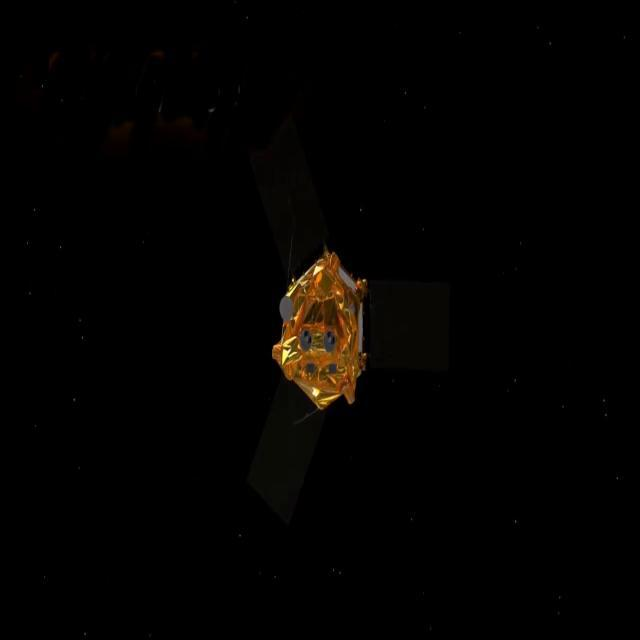sat: (254, 211, 406, 445)
